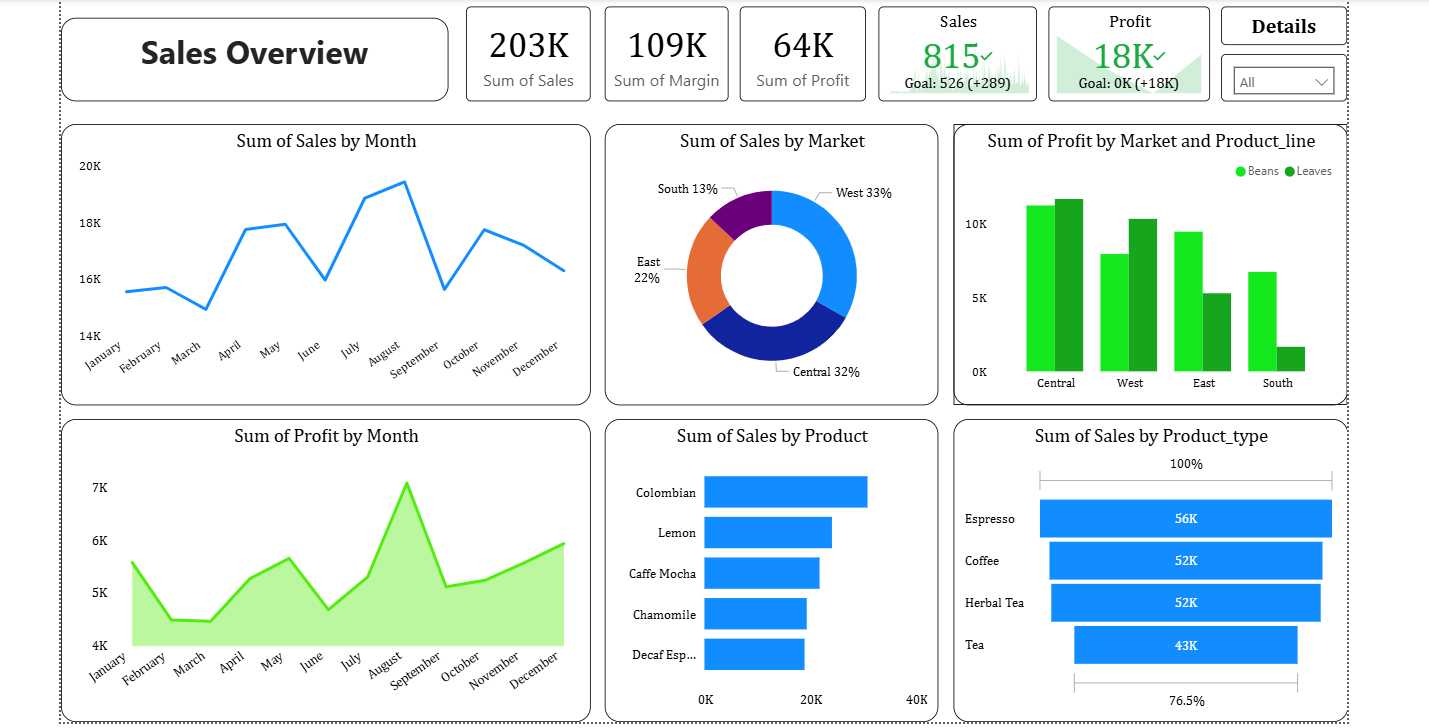

The page's visual inventory and layout, read from the dashboard file:
{"tool":"powerbi","page":{"name":"Page 1","canvas":[1280,720],"ordinal":0},"visuals":[{"type":"lineChart","fields":{"Y":["Sum(Coffee_Chain_Sales.Sales)"],"Category":["Coffee_Chain_Sales.Date.Variation.Date Hierarchy.Month"]},"box":[0,118,532.4,290.9],"z":0},{"type":"areaChart","fields":{"Category":["Coffee_Chain_Sales.Date.Variation.Date Hierarchy.Month"],"Y":["Sum(Coffee_Chain_Sales.Profit)"]},"box":[0,419.9,532.4,300.5],"z":1000},{"type":"barChart","fields":{"Y":["Sum(Coffee_Chain_Sales.Sales)"],"Category":["Coffee_Chain_Sales.Product"]},"box":[544.8,419.9,323.8,300.5],"z":2000},{"type":"donutChart","fields":{"Y":["Sum(Coffee_Chain_Sales.Sales)"],"Category":["Coffee_Chain_Sales.Market"]},"box":[544.8,118,323.8,290.9],"z":3000},{"type":"clusteredColumnChart","fields":{"Category":["Coffee_Chain_Sales.Market"],"Series":["Coffee_Chain_Sales.Product_line"],"Y":["Sum(Coffee_Chain_Sales.Profit)"]},"box":[881,118,399.3,290.9],"z":4000},{"type":"funnel","fields":{"Category":["Coffee_Chain_Sales.Product_type"],"Y":["Sum(Coffee_Chain_Sales.Sales)"]},"box":[881,419.9,399.3,300.5],"z":5000},{"type":"card","fields":{"Values":["Sum(Coffee_Chain_Sales.Sales)"]},"box":[394.3,7.5,138.1,92.1],"z":6000},{"type":"card","fields":{"Values":["Sum(Coffee_Chain_Sales.Profit)"]},"box":[685.4,7.5,134.3,92.1],"z":7000},{"type":"card","fields":{"Values":["Sum(Coffee_Chain_Sales.Margin)"]},"box":[544.9,7.5,129.4,92.1],"z":8000},{"type":"kpi","title":"Sales","fields":{"Goal":["Sum(Coffee_Chain_Sales.Margin)"],"Indicator":["Sum(Coffee_Chain_Sales.Sales)"],"TrendLine":["Coffee_Chain_Sales.Profit"]},"box":[833.5,7.5,144.3,92.1],"z":9000},{"type":"kpi","title":"Profit","fields":{"TrendLine":["Coffee_Chain_Sales.Market"],"Goal":["Sum(Coffee_Chain_Sales.Marketing)"],"Indicator":["Sum(Coffee_Chain_Sales.Profit)"]},"box":[988.9,7.5,146.8,92.1],"z":10000},{"type":"textbox","box":[0,17.4,380.7,72.1],"z":11000},{"type":"actionButton","box":[1149.4,7.5,130.6,37.3],"z":12000},{"type":"slicer","fields":{"Values":["Coffee_Chain_Sales.Product_line"]},"box":[1149.4,53.5,130.6,46],"z":13000}]}

Visuals, with their boxes on the page's 1280x720 design canvas (x1, y1, x2, y2). These are canvas units, not pixel positions in the 1429x728 screenshot, which may show the page scaled, cropped or inside an application window:
lineChart - Sum(Coffee_Chain_Sales.Sales) x Coffee_Chain_Sales.Date.Variation.Date Hierarchy.Month: <box>0,118,532,409</box>
areaChart - Coffee_Chain_Sales.Date.Variation.Date Hierarchy.Month x Sum(Coffee_Chain_Sales.Profit): <box>0,420,532,720</box>
barChart - Sum(Coffee_Chain_Sales.Sales) x Coffee_Chain_Sales.Product: <box>545,420,869,720</box>
donutChart - Sum(Coffee_Chain_Sales.Sales) x Coffee_Chain_Sales.Market: <box>545,118,869,409</box>
clusteredColumnChart - Coffee_Chain_Sales.Market x Coffee_Chain_Sales.Product_line: <box>881,118,1280,409</box>
funnel - Coffee_Chain_Sales.Product_type x Sum(Coffee_Chain_Sales.Sales): <box>881,420,1280,720</box>
card - Sum(Coffee_Chain_Sales.Sales): <box>394,8,532,100</box>
card - Sum(Coffee_Chain_Sales.Profit): <box>685,8,820,100</box>
card - Sum(Coffee_Chain_Sales.Margin): <box>545,8,674,100</box>
"Sales" kpi: <box>834,8,978,100</box>
"Profit" kpi: <box>989,8,1136,100</box>
textbox: <box>0,17,381,90</box>
actionButton: <box>1149,8,1280,45</box>
slicer - Coffee_Chain_Sales.Product_line: <box>1149,54,1280,100</box>
